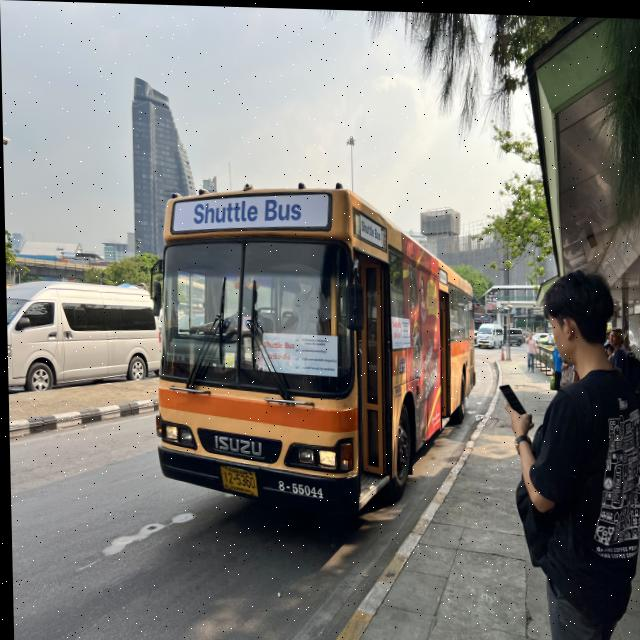BMTA-bus: (148, 180, 481, 524)
Bus-Line-Number: (191, 194, 304, 227)
Destination-Sign-Extra-Bus: (261, 328, 338, 375)
